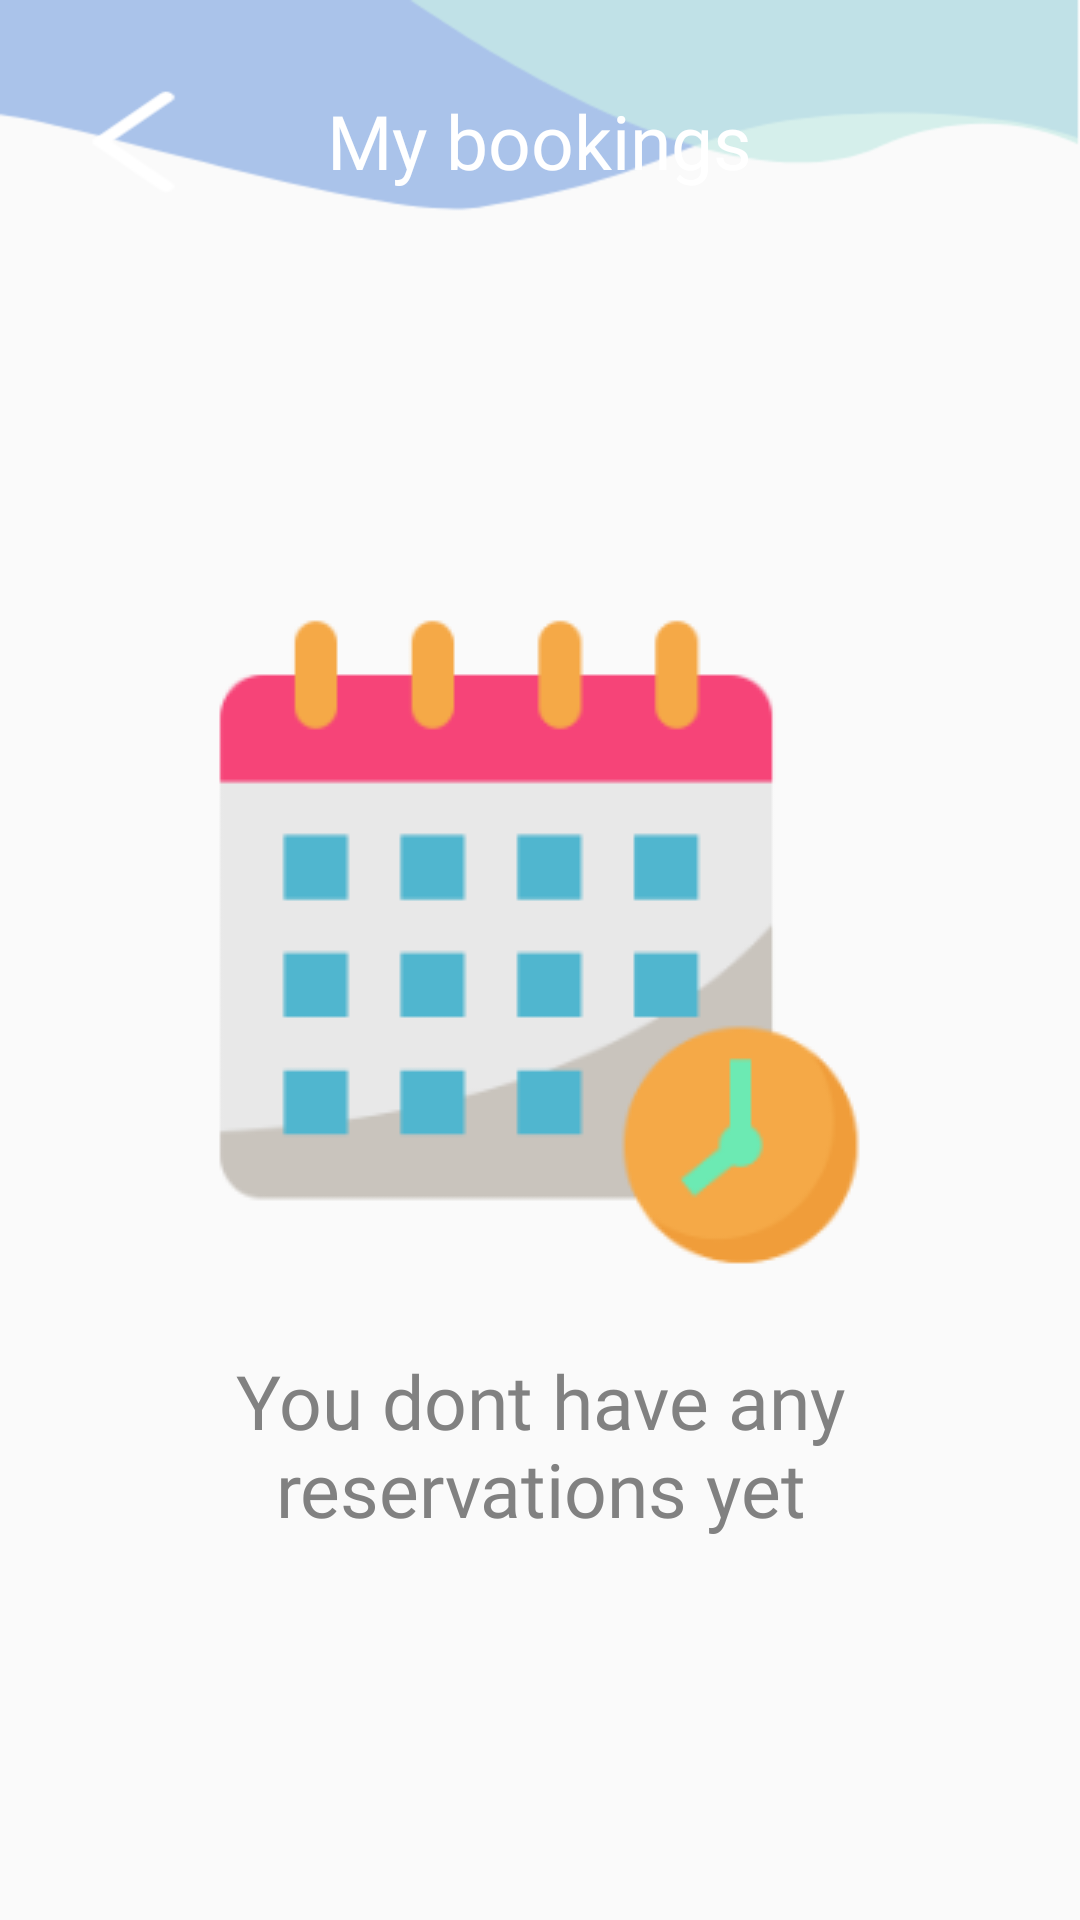

Screen size 1080x1920. Icon name, then its center in pixels as point (x, y):
back arrow: point (133, 142)
